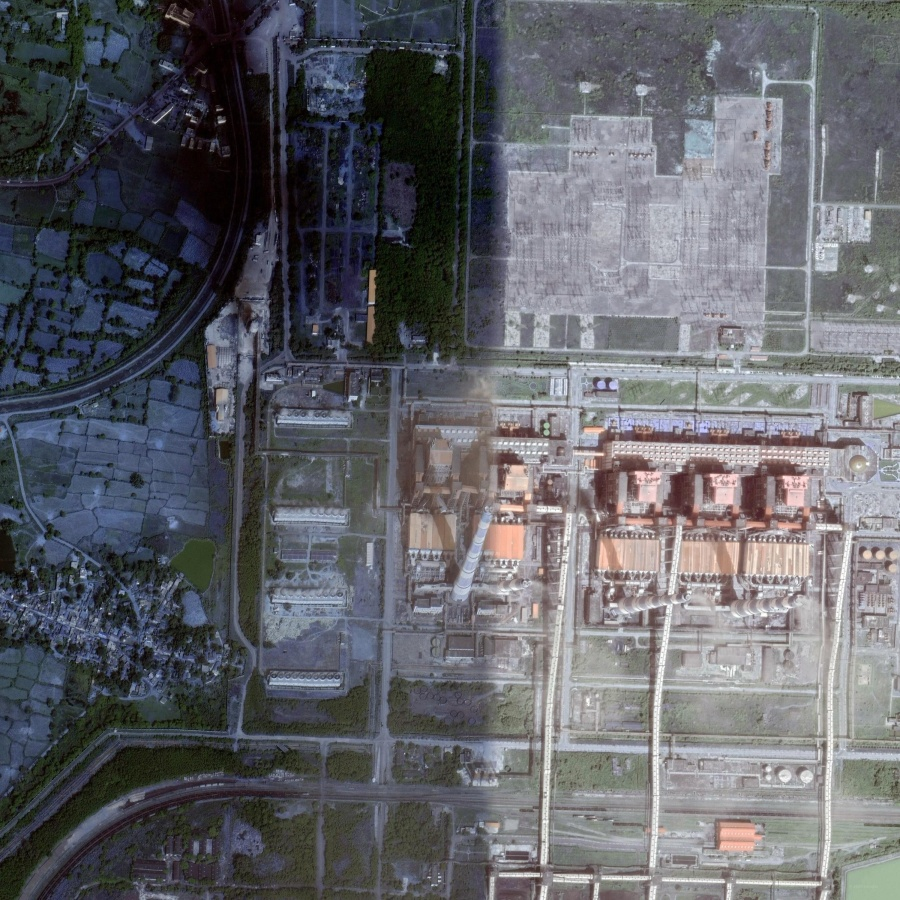PowerPlant: (383, 359, 845, 701)
